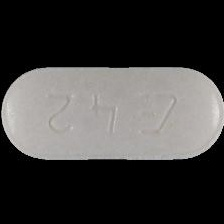68258-6106: (0, 0, 224, 224)
